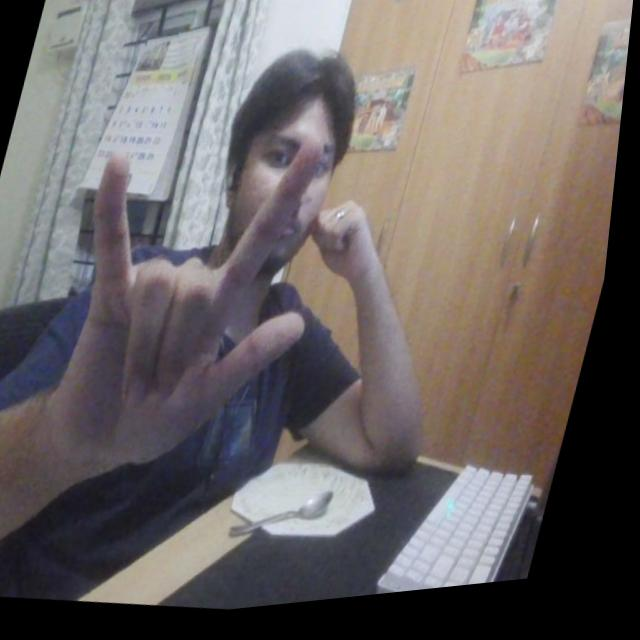thankyou: (26, 96, 361, 512)
